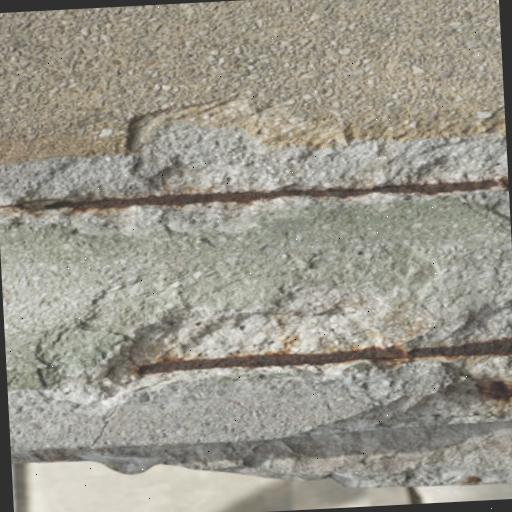spalling: (0, 89, 505, 255), (11, 278, 512, 418)
